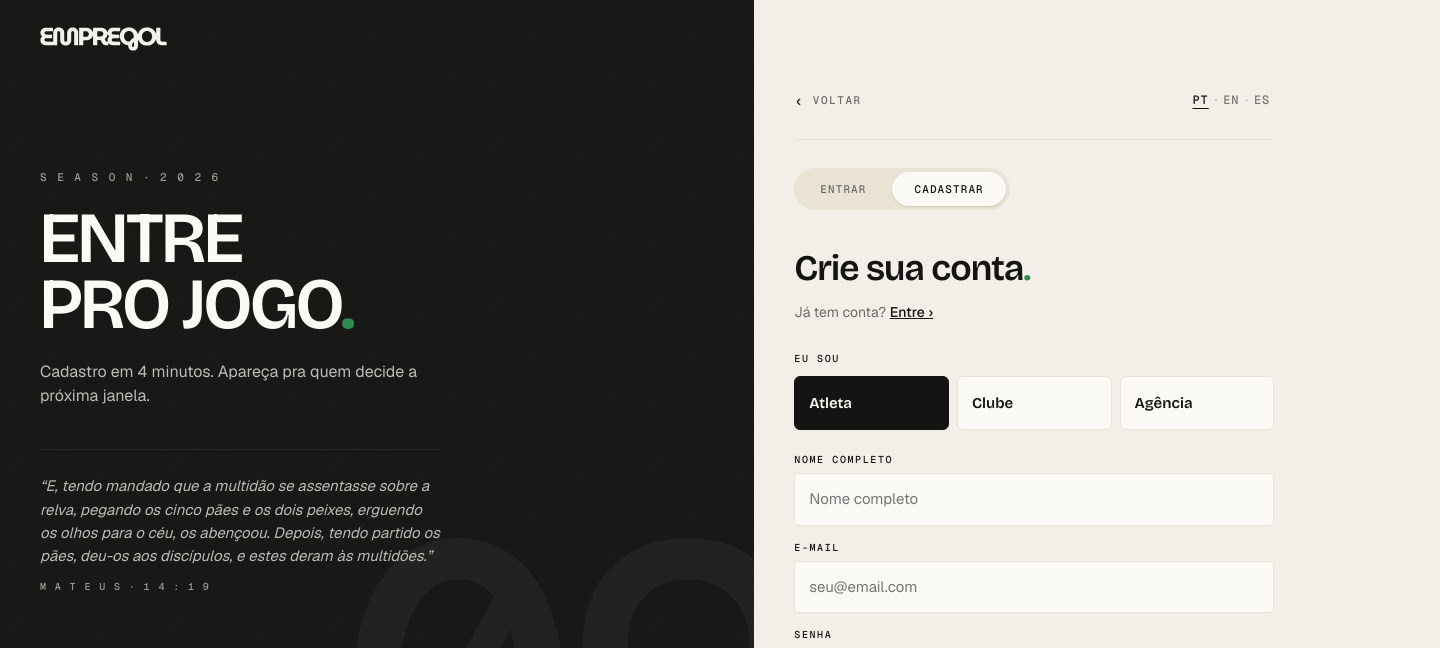
Test: AuthPage › cobra a razão social da agência, mas deixa o clube seguir sem ela
The width and height of the screenshot is (1440, 648).
Click the button "Agência". click: (1197, 403)
box: [1120,376,1274,430]
(page scrolled)
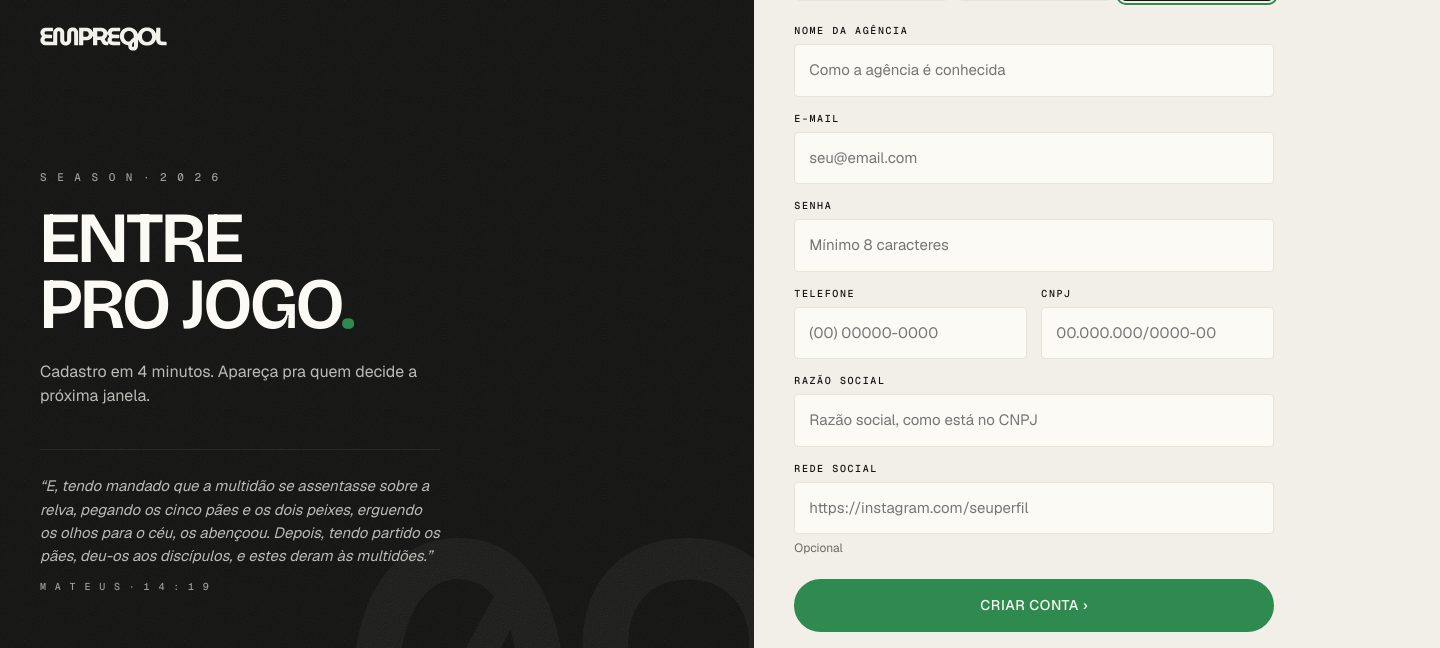
Click the button "Criar conta ›". click: (1034, 605)
box: [794,579,1274,632]
(page scrolled)
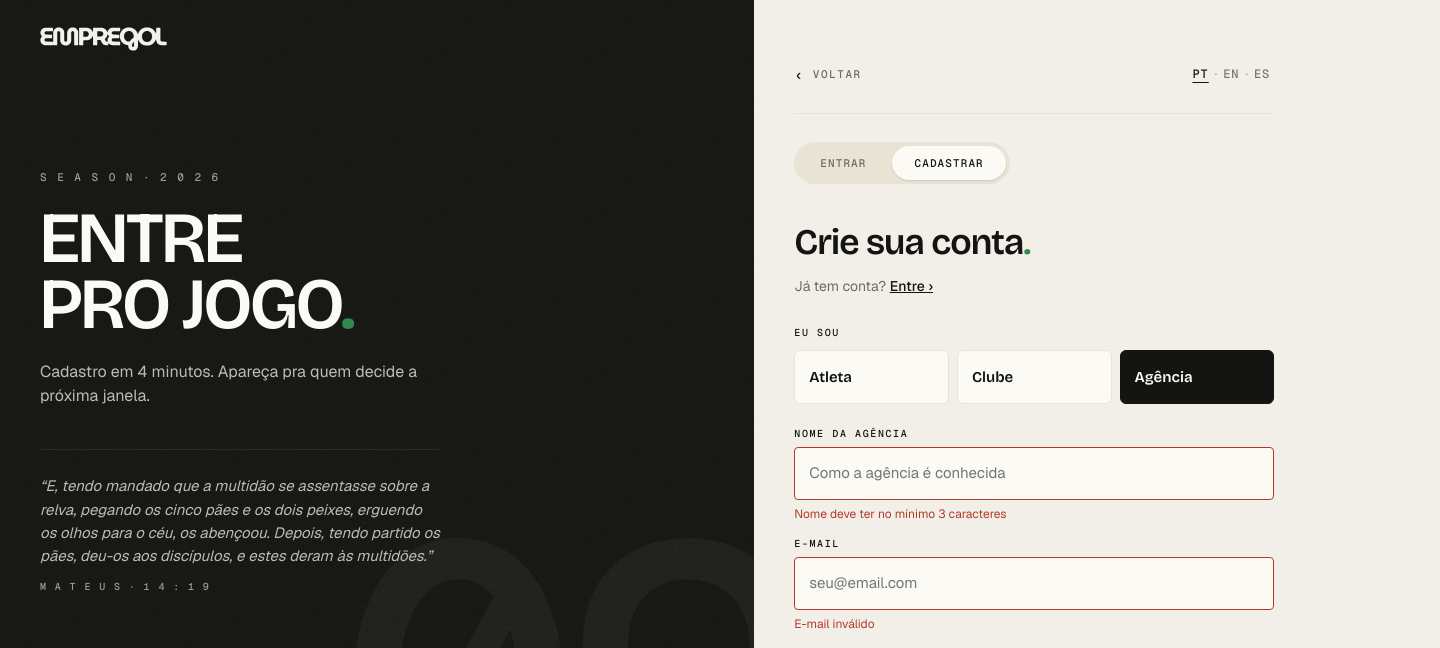
Click the button "Clube". click: (1034, 377)
box: [957,350,1112,404]
(page scrolled)
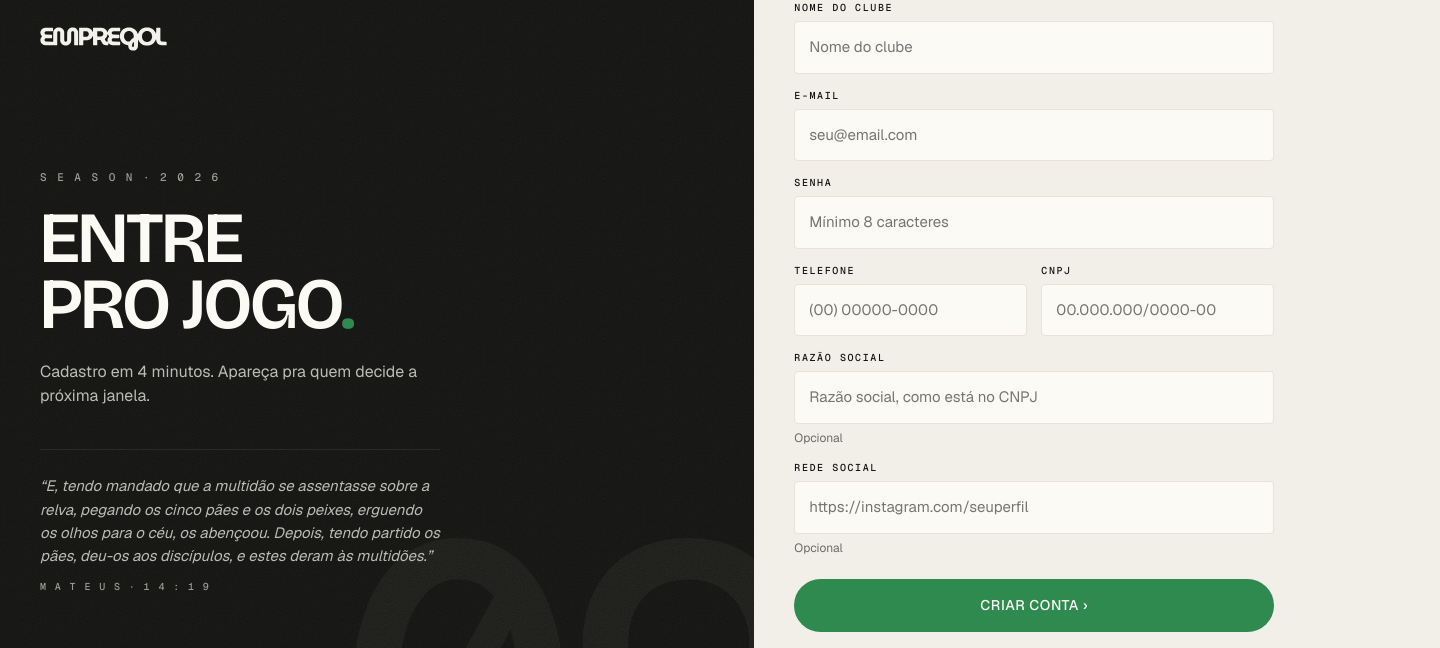
Click the button "Criar conta ›". click: (1034, 605)
box: [794,579,1274,632]
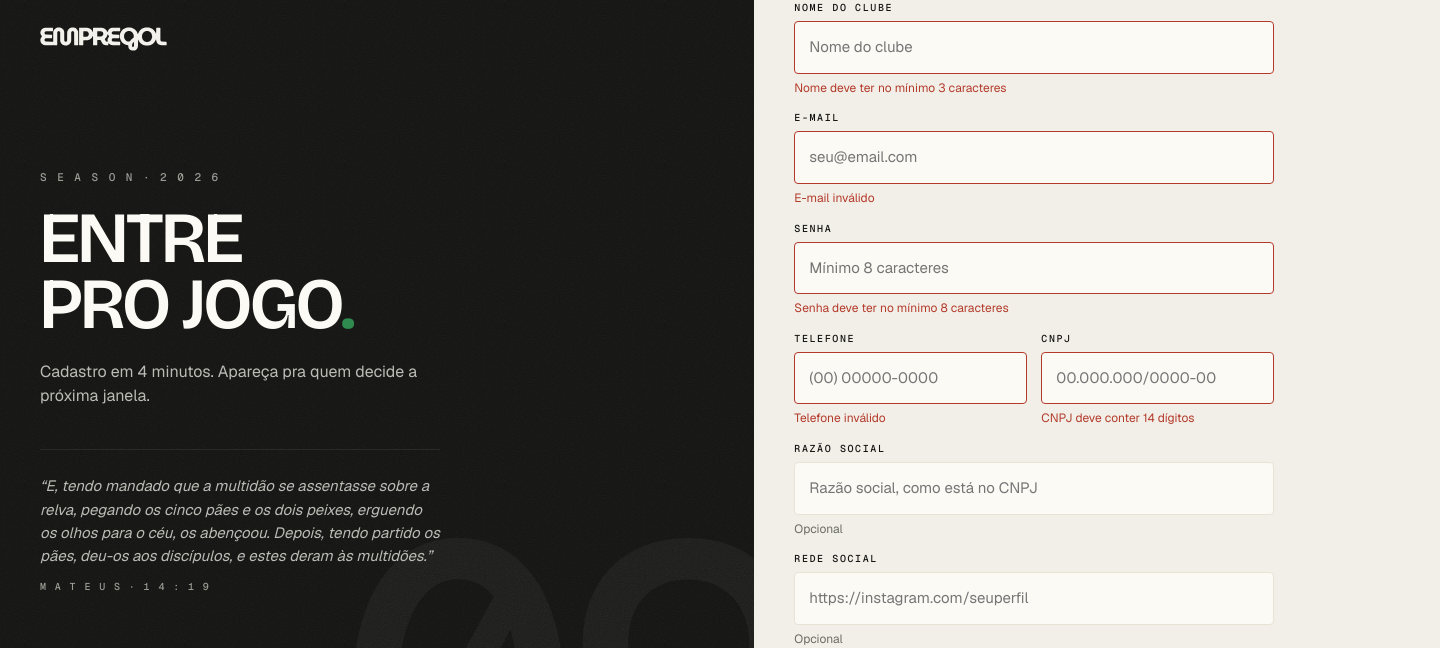
Check: the text "CNPJ deve conter 14 dígitos" is shown, box [1041,410,1194,426]
